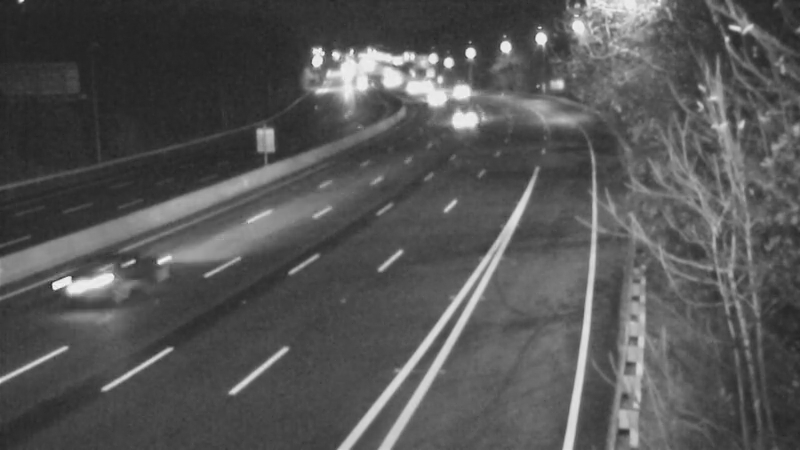vehicle: (47, 241, 127, 321), (435, 66, 485, 116), (403, 74, 453, 124), (440, 95, 490, 145)
